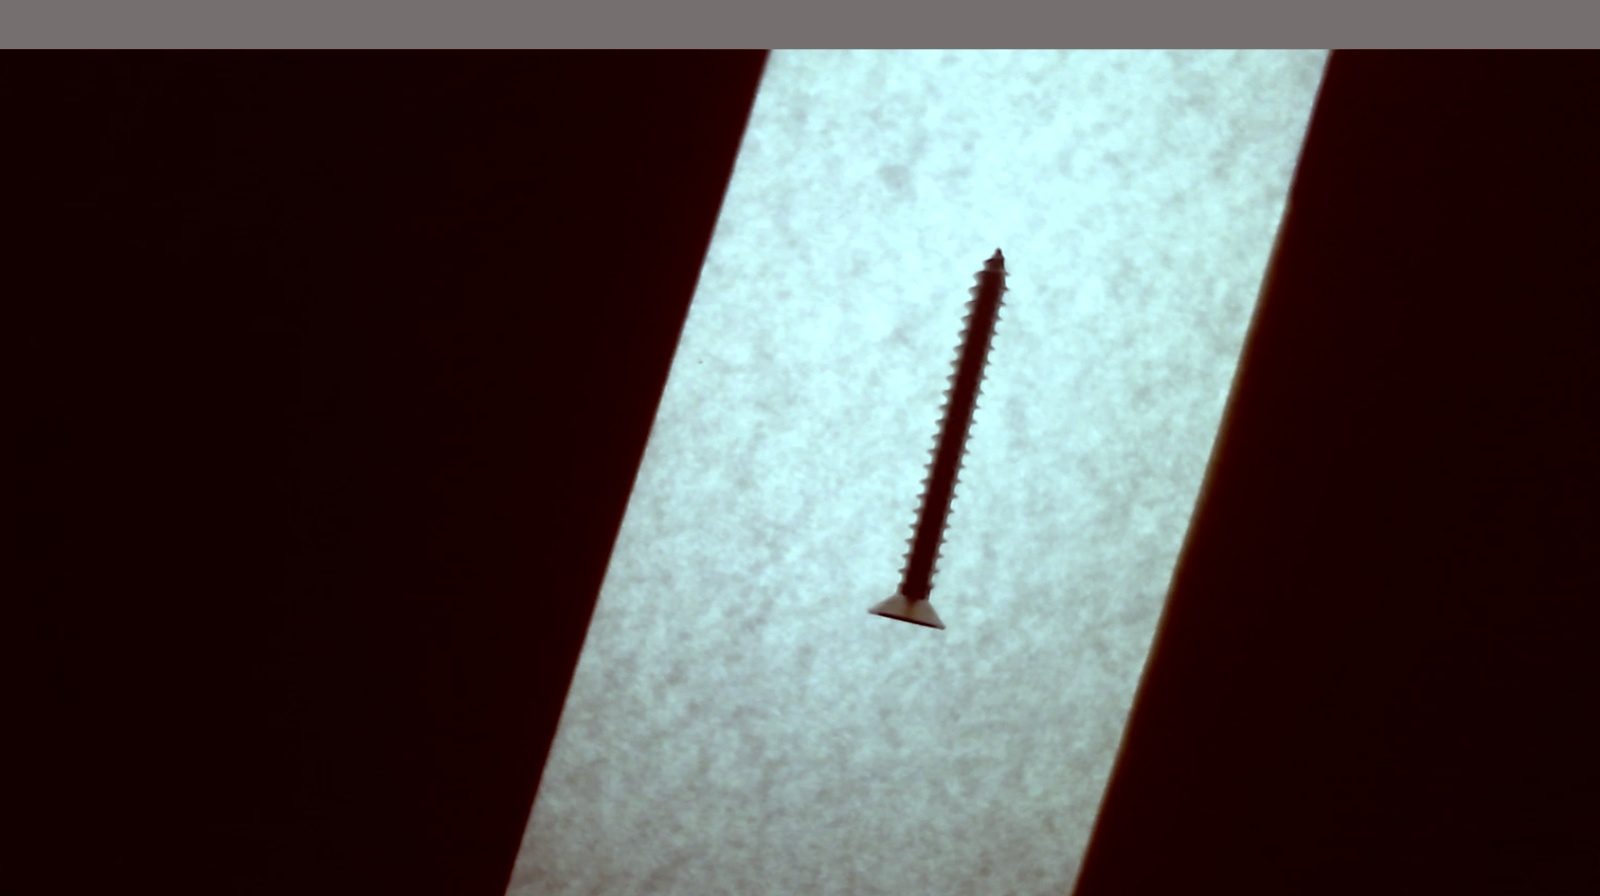S002: (852, 245, 1024, 645)
